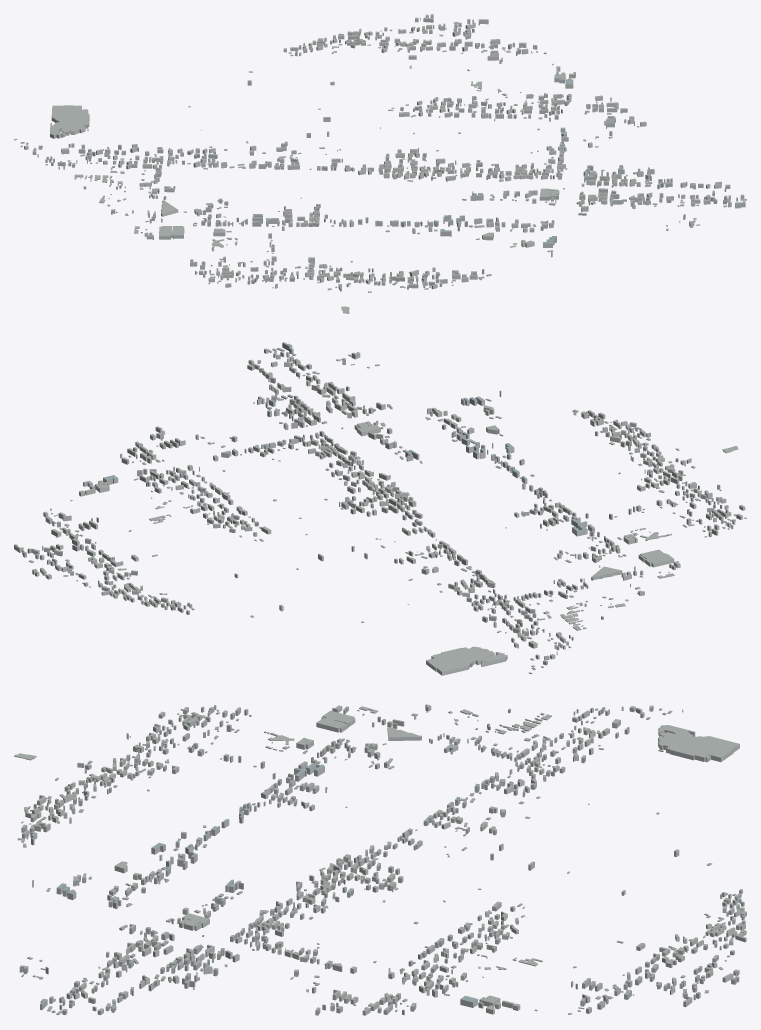
Rendered from far.glb.
The picture shows the model from 3 angles, top to bottom: view 1: azimuth 30°, elevation 25°; view 2: azimuth 150°, elevation 25°; view 3: azimuth 270°, elevation 25°; orthographic projection. The views are drawn at different scales.
Size of the model in its own units: 2107 by 22.2 by 2114.
